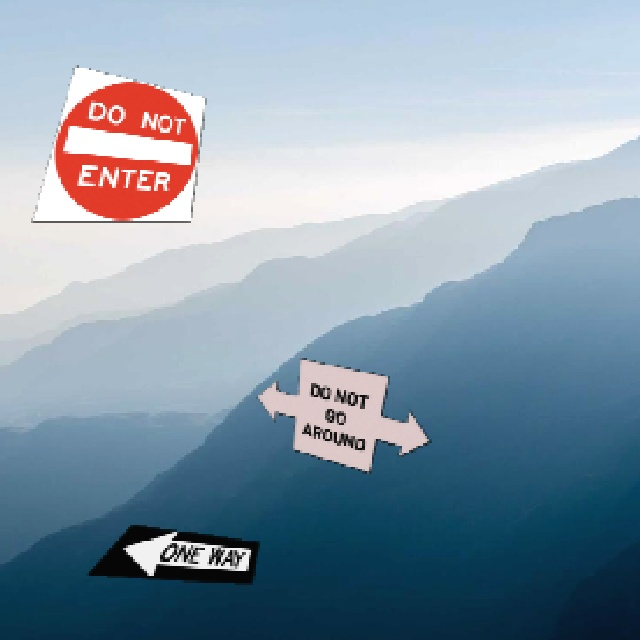DO_NOT_ENTER: (29, 63, 204, 221)
DO_NOT_GO_AROUND: (254, 356, 429, 472)
ONE_WAY_ left: (83, 522, 258, 583)
